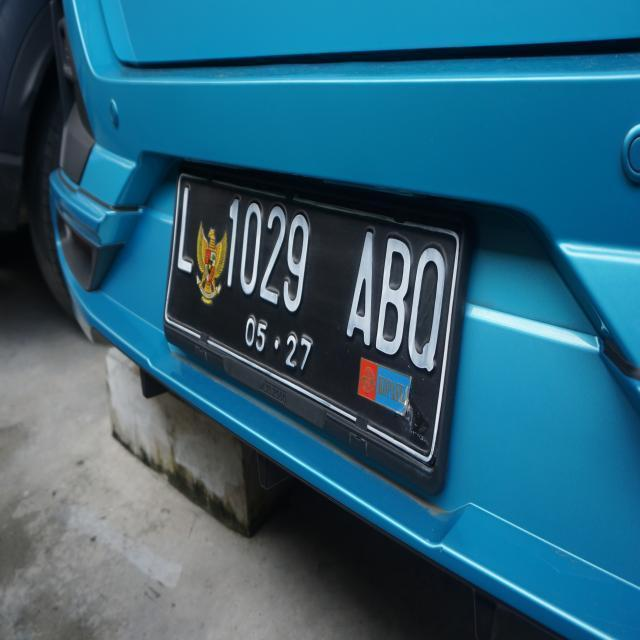0: (241, 202, 260, 300)
1: (220, 191, 240, 297)
2: (259, 200, 287, 308)
9: (283, 198, 312, 326)
A: (340, 218, 380, 358)
B: (376, 222, 414, 364)
L: (172, 177, 198, 290)
Q: (406, 234, 444, 392)
